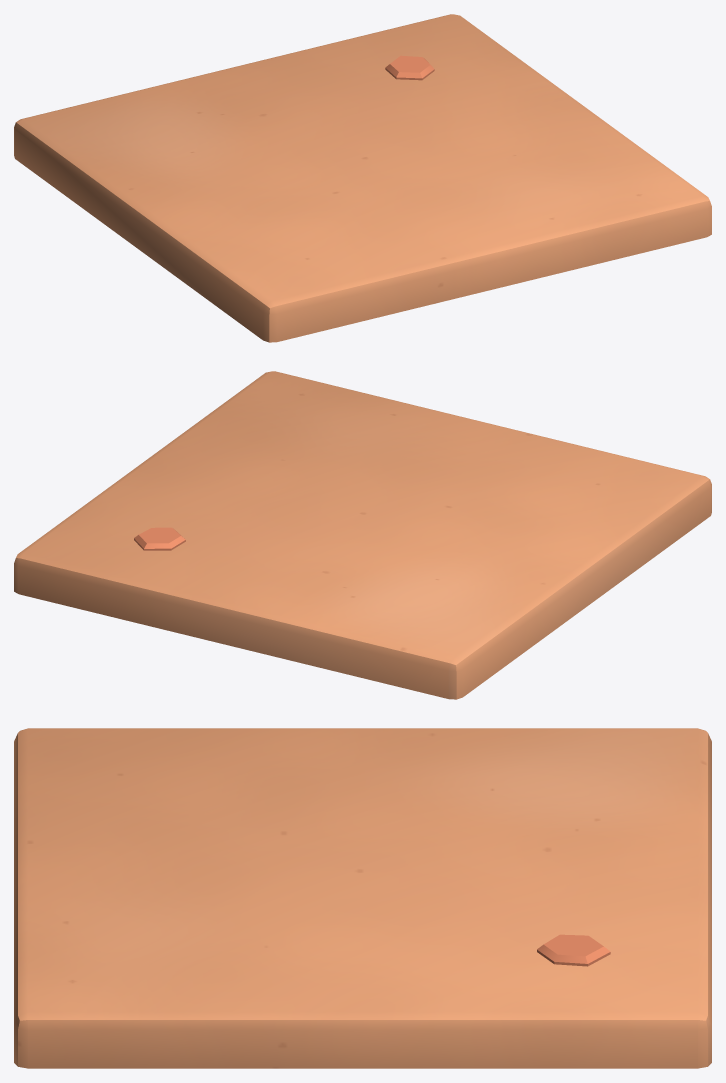
File: sand_tile_a.glb
3 views of the same model, one above another, from view 1: azimuth 30°, elevation 25°; view 2: azimuth 150°, elevation 25°; view 3: azimuth 270°, elevation 25° (orthographic). The views are drawn at different scales.
Visible parts, largest first — view 1: sand_tile_a; view 2: sand_tile_a; view 3: sand_tile_a.
Part boxes in pixels (bbox=[...]): sand_tile_a: bbox=[14, 14, 711, 342]; sand_tile_a: bbox=[14, 371, 711, 699]; sand_tile_a: bbox=[14, 728, 711, 1068].
Bounding box in the file's own units: 1 × 0.092 × 1.
Materials: 2 (1 with a texture image).
